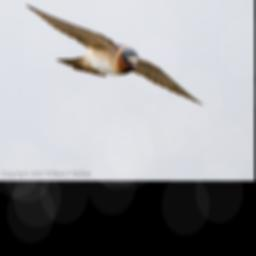Swallow: (23, 1, 205, 105)
